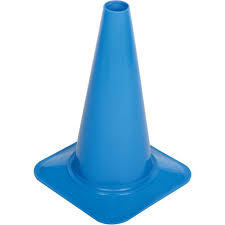cones: (38, 4, 191, 220)
